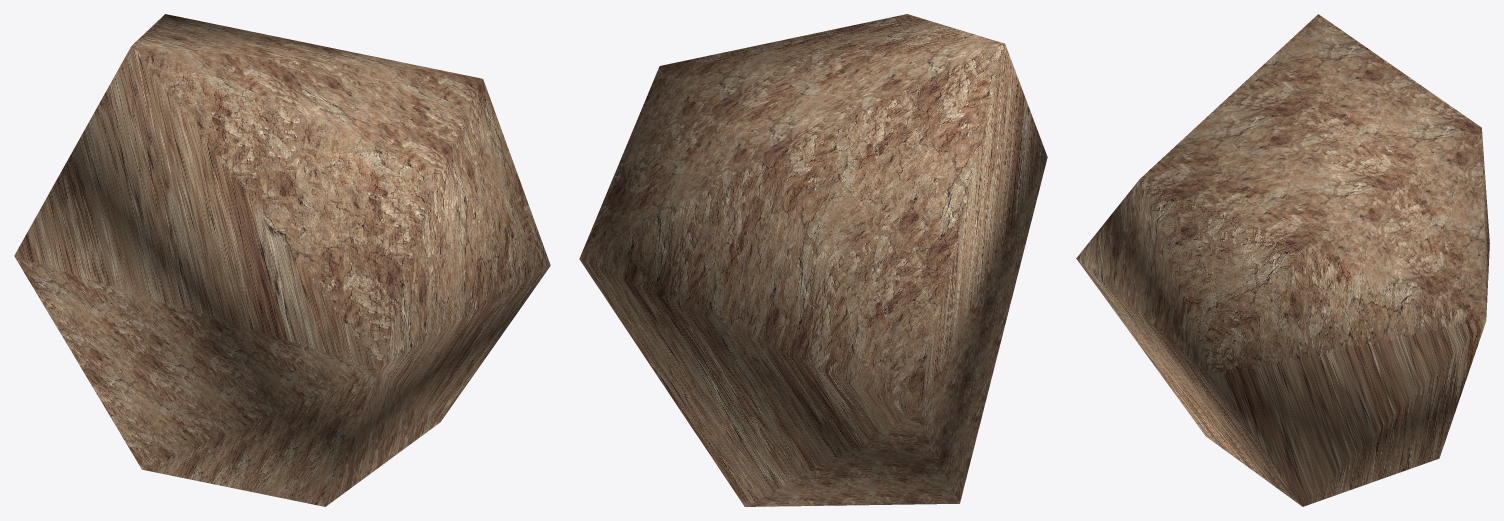
Rendered from rock_tatt_boulder_flat_l4.fbx.
3 renders of one model, left to right at view 1: azimuth 30°, elevation 25°; view 2: azimuth 150°, elevation 25°; view 3: azimuth 270°, elevation 25°, orthographic. The views are drawn at different scales.
Parts seen in each view (by area): view 1: mesh_node; view 2: mesh_node; view 3: mesh_node.
Boxes of the visible parts, x1=… form: mesh_node: x1=14, y1=14, x2=550, y2=506; mesh_node: x1=579, y1=14, x2=1047, y2=506; mesh_node: x1=1076, y1=14, x2=1489, y2=506.
Size of the model in its own units: 5.52 by 6.28 by 6.35.
